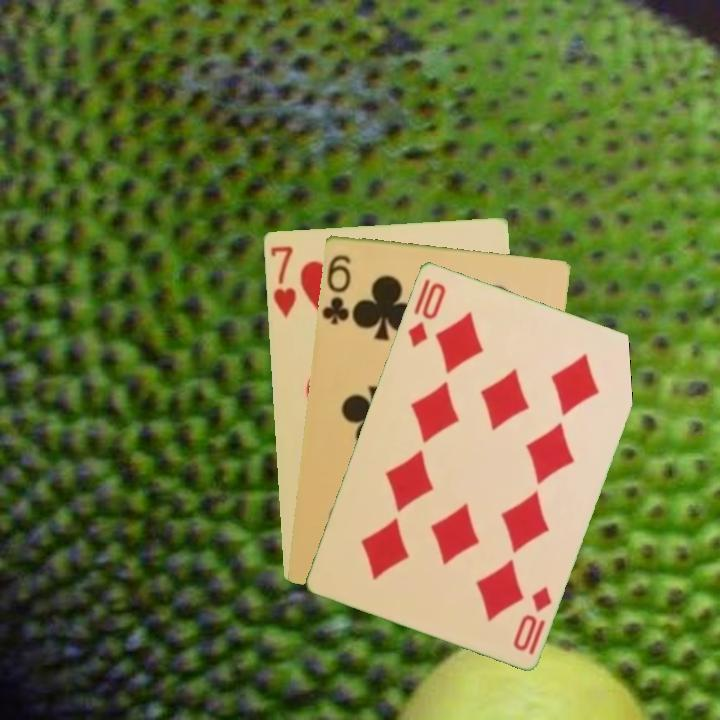10d: (404, 275, 449, 350), (509, 581, 555, 654)
6c: (319, 251, 353, 327)
7h: (267, 242, 299, 321)
